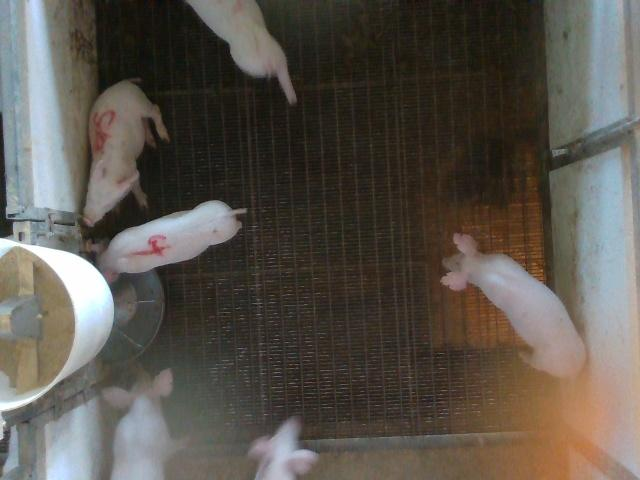pig-4: (99, 200, 245, 280)
pig-5: (84, 79, 169, 226)
